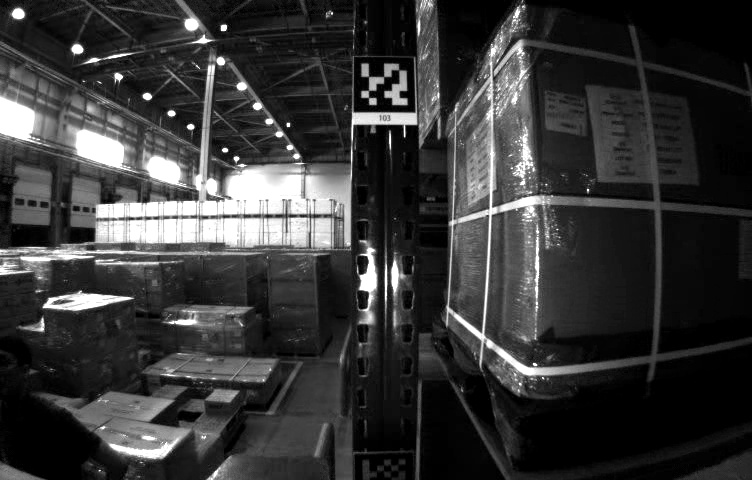True Barcode: (544, 91, 586, 133)
